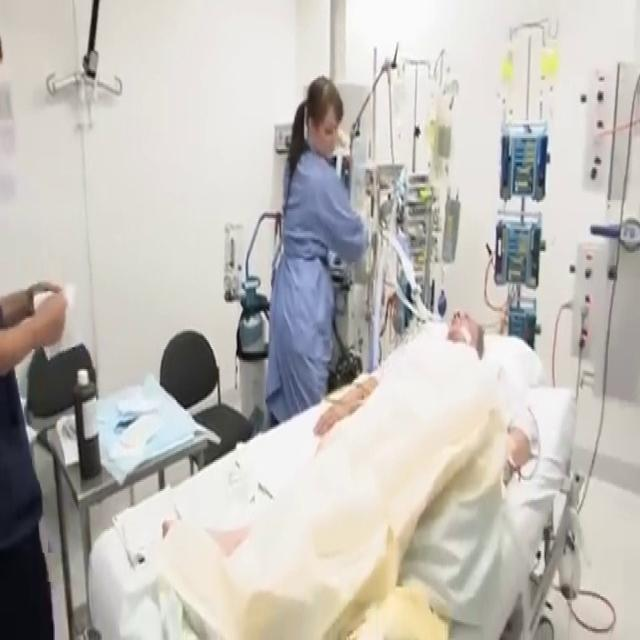nurse: (263, 73, 370, 427)
patient: (312, 307, 545, 639)
